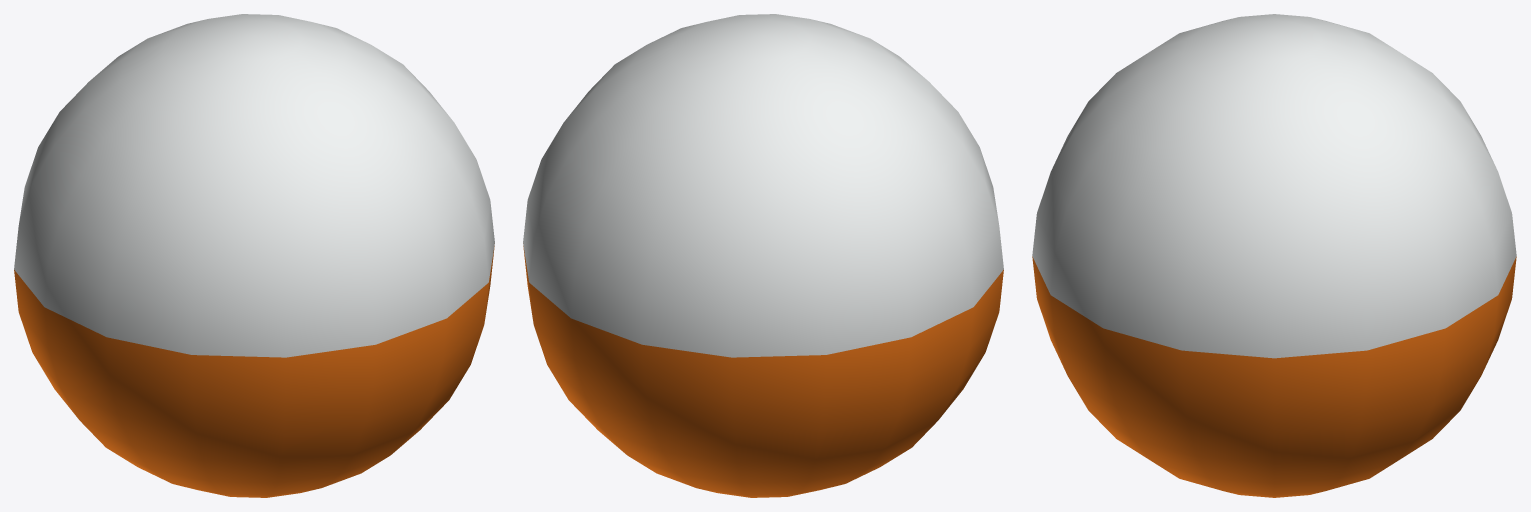
File: Ball01.fbx
3 renders of one model, left to right at view 1: azimuth 30°, elevation 25°; view 2: azimuth 150°, elevation 25°; view 3: azimuth 270°, elevation 25°, orthographic.
Parts seen in each view (by area): view 1: Ball01; view 2: Ball01; view 3: Ball01.
Part boxes in pixels (x1=…): Ball01: x1=14, y1=14, x2=494, y2=497; Ball01: x1=523, y1=14, x2=1003, y2=497; Ball01: x1=1032, y1=14, x2=1516, y2=497.
Bounding box in the file's own units: 1.2 × 1.2 × 1.2.
Materials: 1 (1 with a texture image).
